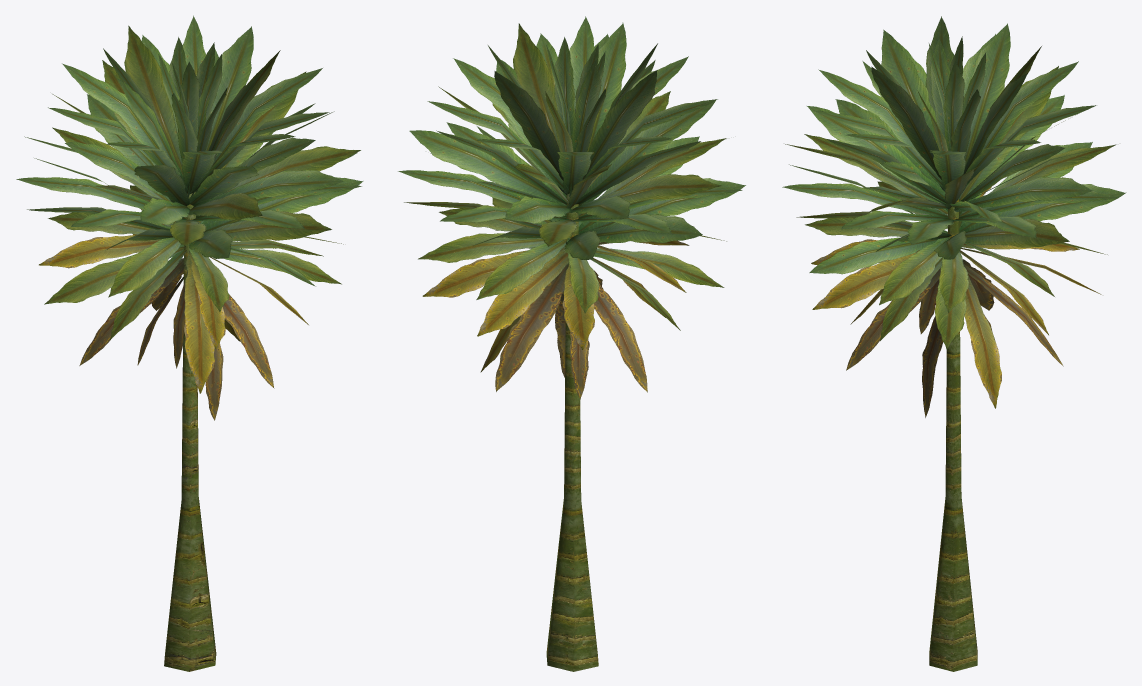
File: MK4_BallPalm1.DAE
3 views of the same model, side by side, from view 1: azimuth 30°, elevation 25°; view 2: azimuth 150°, elevation 25°; view 3: azimuth 270°, elevation 25° (orthographic).
Parts seen in each view (by area): view 1: MK4_BallPalm1; view 2: MK4_BallPalm1; view 3: MK4_BallPalm1.
Part boxes in pixels (x1=…): MK4_BallPalm1: x1=16, y1=15, x2=363, y2=671; MK4_BallPalm1: x1=398, y1=16, x2=745, y2=671; MK4_BallPalm1: x1=782, y1=16, x2=1126, y2=671.
Size of what is drawn, in the model's own units: 3.87 by 3.86 by 7.45.
